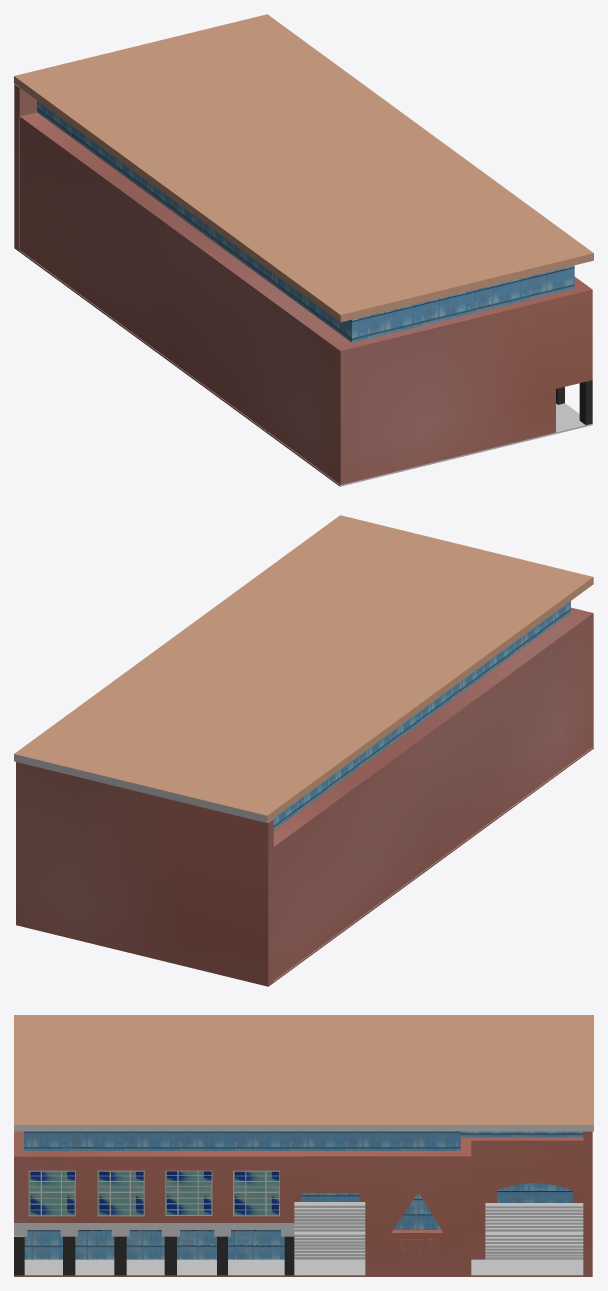
File: Building6.obj
3 views of the same model, one above another, from view 1: azimuth 30°, elevation 25°; view 2: azimuth 150°, elevation 25°; view 3: azimuth 270°, elevation 25° (orthographic). The views are drawn at different scales.
Parts seen in each view (by area): view 1: Mesh4 Model; view 2: Mesh4 Model; view 3: Mesh4 Model.
Boxes of the visible parts, x1=… form: Mesh4 Model: x1=14, y1=14, x2=593, y2=486; Mesh4 Model: x1=14, y1=515, x2=593, y2=986; Mesh4 Model: x1=14, y1=1015, x2=593, y2=1276.
Size of the model in its own units: 3396 by 2193 by 7564.
